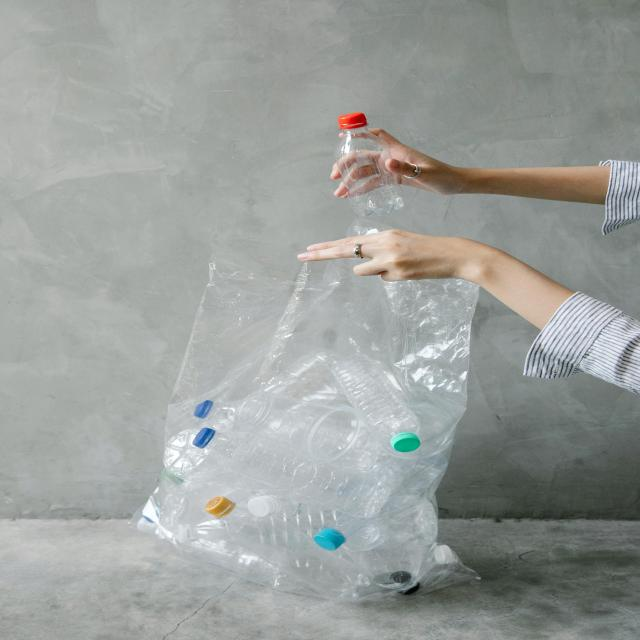plastic: (206, 316, 423, 572)
